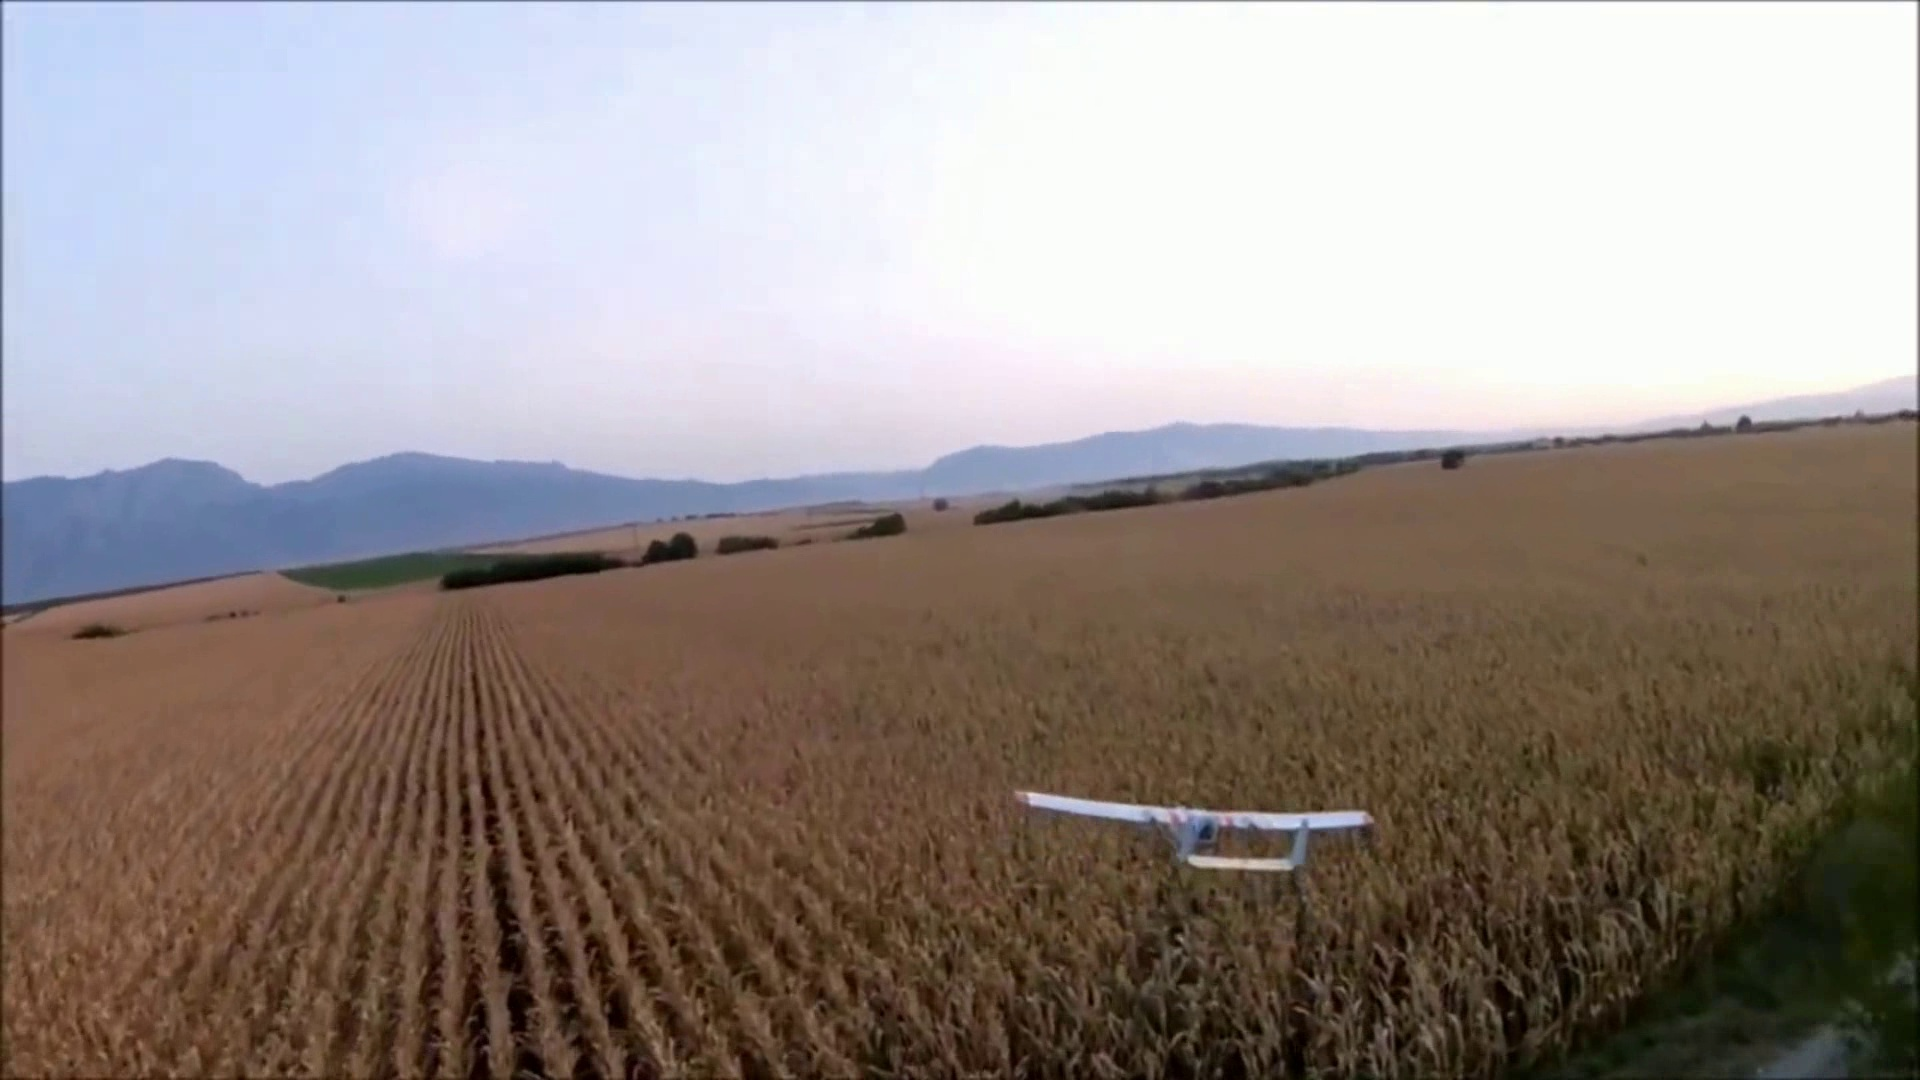airplane: (1015, 791, 1377, 873)
